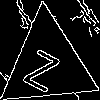Z: (22, 38, 65, 94)
